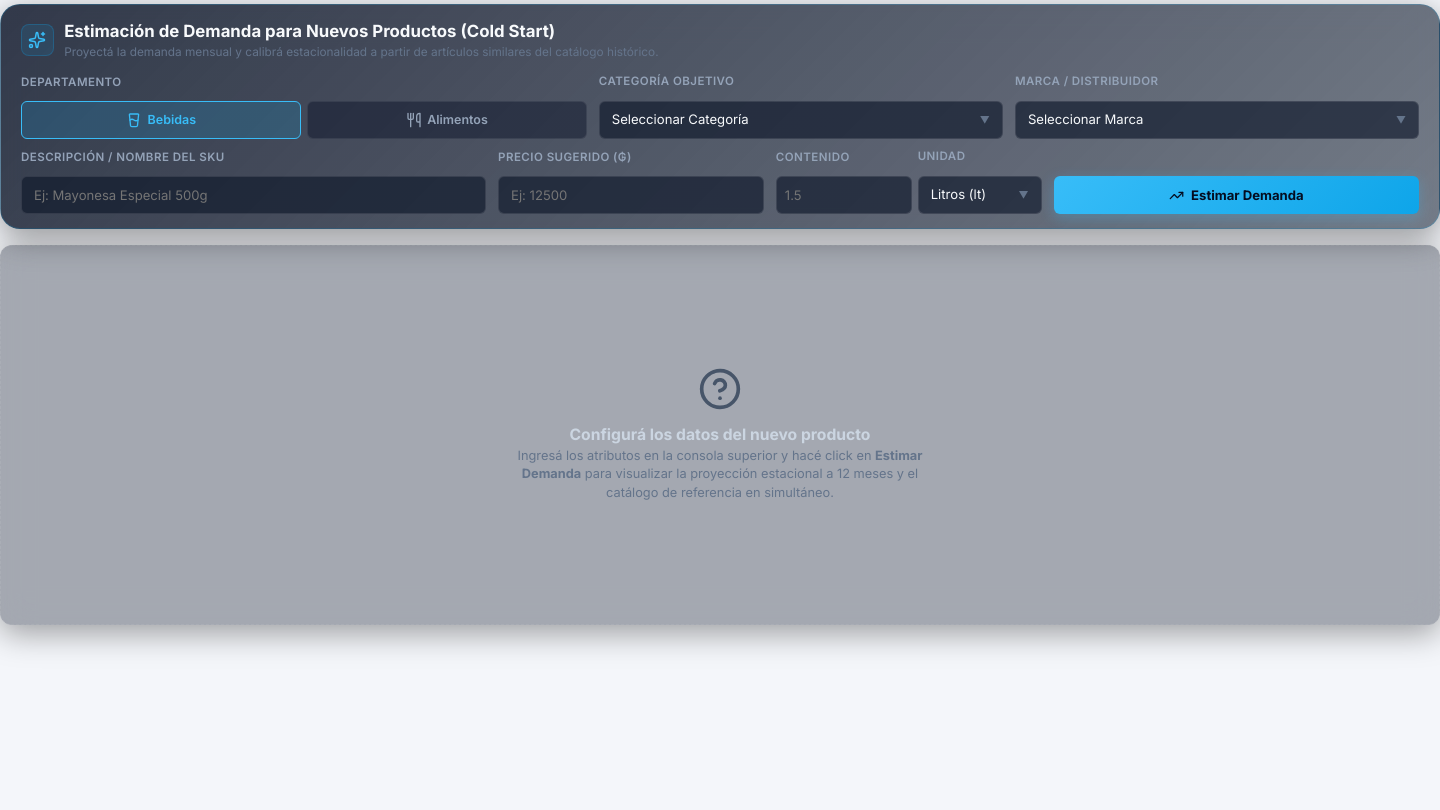
it: ColdStartView › validaciones del formulario › exige la categoria objetivo
The image size is (1440, 810).
Check: the text "Bebidas" is shown, box [148,111,196,130]
Type "Gaseosa Cola 2L" into the field with placeholder "Ej: Mayonesa Especial 500g" at (254, 195), box [21,176,486,214]
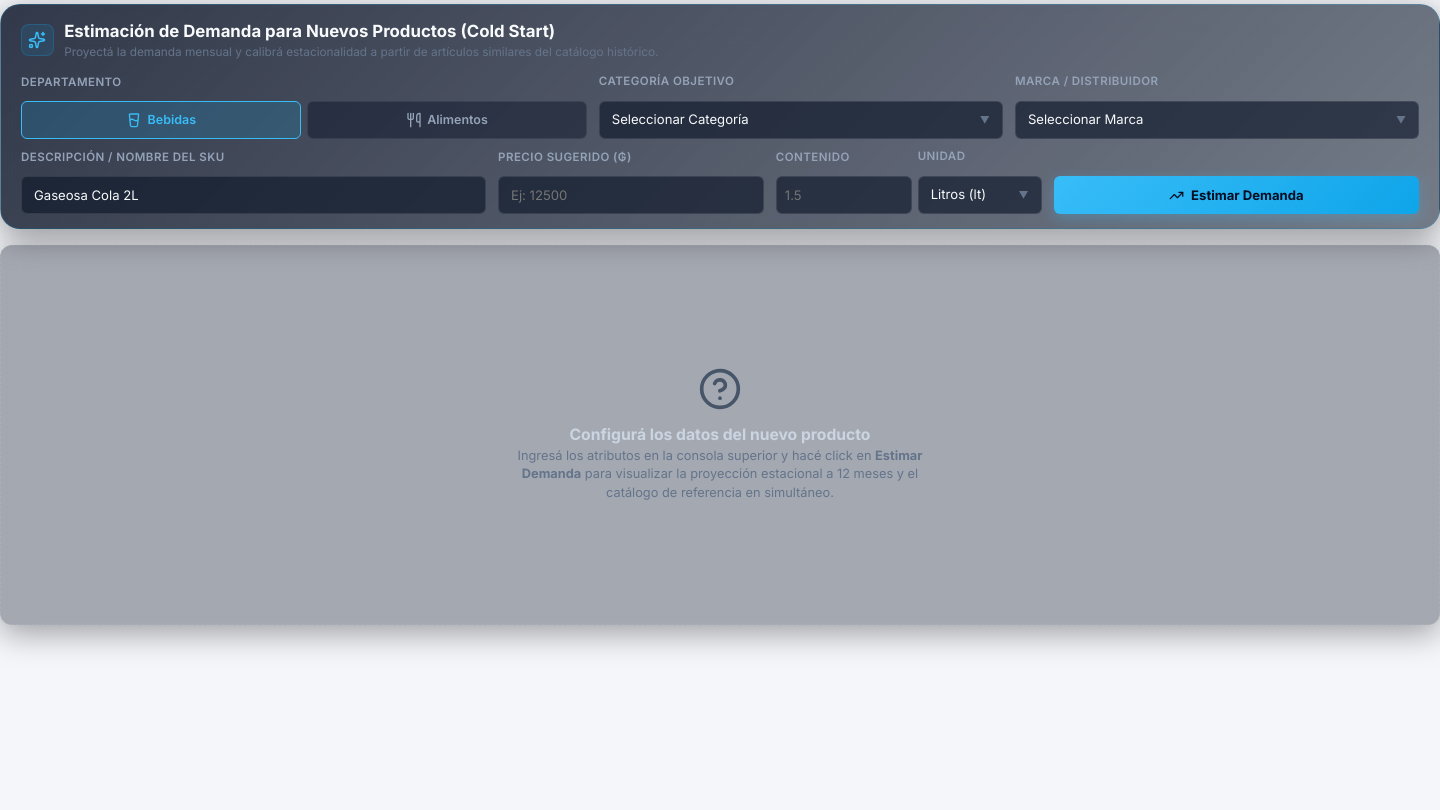
Submit the form named "estimar demanda", box [21,74,1419,214]
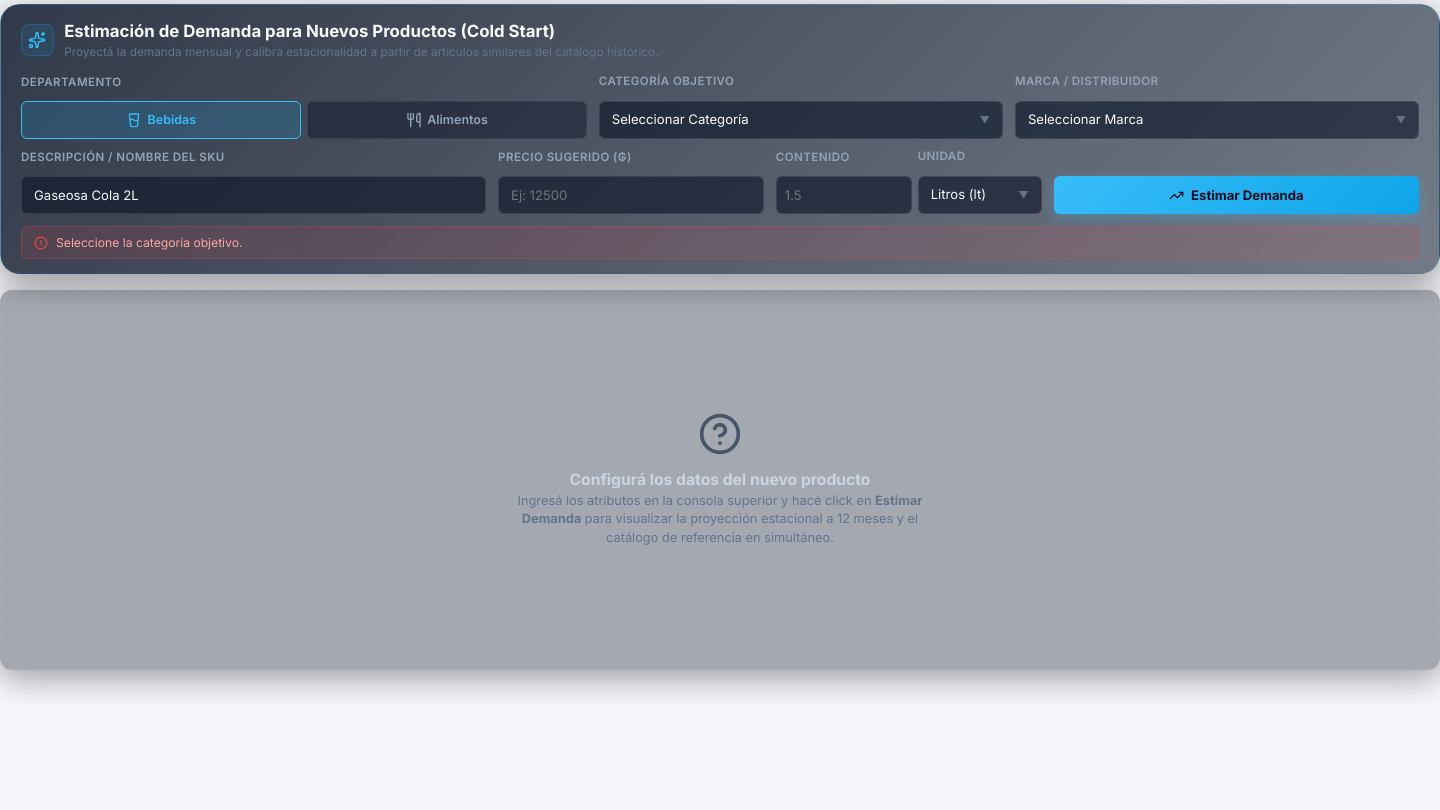
Check: the text "Seleccione la categoría objetivo." is shown, box [56,234,242,252]
